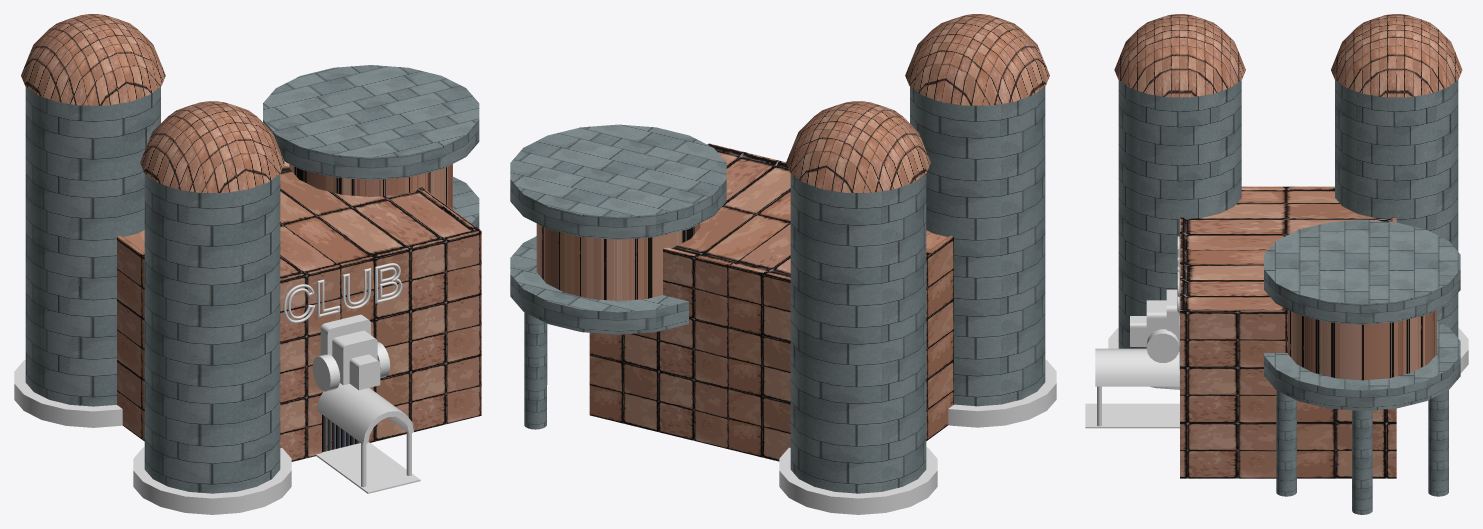
The model's file is Nightclub Building TEXTURED.FBX.
The picture shows the model from 3 angles, left to right: view 1: azimuth 30°, elevation 25°; view 2: azimuth 150°, elevation 25°; view 3: azimuth 270°, elevation 25°; orthographic projection. The views are drawn at different scales.
Visible parts, largest first — view 1: Box001, Cylinder002, Cylinder003, Cylinder007, Sphere002, Sphere001, Cylinder008, Tube001, Cylinder001, Cylinder009, Box005, Text001 (+6 smaller); view 2: Box001, Cylinder003, Cylinder002, Cylinder007, Sphere001, Sphere002, Cylinder001, Cylinder004, Cylinder009, Cylinder008, Cylinder010; view 3: Box001, Cylinder002, Cylinder007, Cylinder003, Sphere001, Sphere002, Cylinder001, Cylinder004, Tube001, Box005, Cylinder012, Cylinder010 (+5 smaller).
Boxes of the visible parts, x1,y1,x2,y2 form: Box001: [117, 162, 481, 461]; Cylinder002: [144, 174, 280, 493]; Cylinder003: [25, 87, 160, 406]; Cylinder007: [263, 65, 479, 180]; Sphere002: [21, 14, 165, 105]; Sphere001: [140, 101, 284, 192]; Cylinder008: [133, 447, 291, 514]; Tube001: [317, 383, 413, 444]; Cylinder001: [289, 164, 452, 209]; Cylinder009: [14, 360, 122, 427]; Box005: [316, 442, 420, 493]; Text001: [283, 263, 402, 323]; Box001: [589, 143, 953, 461]; Cylinder003: [790, 174, 926, 493]; Cylinder002: [910, 86, 1045, 406]; Cylinder007: [510, 124, 726, 239]; Sphere001: [905, 14, 1049, 105]; Sphere002: [786, 101, 930, 192]; Cylinder001: [536, 223, 700, 300]; Cylinder004: [510, 236, 688, 334]; Cylinder009: [779, 447, 937, 514]; Cylinder008: [948, 359, 1056, 427]; Cylinder010: [524, 312, 546, 429]; Box001: [1180, 186, 1396, 478]; Cylinder002: [1118, 80, 1241, 370]; Cylinder007: [1264, 220, 1460, 324]; Cylinder003: [1335, 80, 1458, 337]; Sphere001: [1114, 14, 1245, 97]; Sphere002: [1331, 14, 1462, 97]; Cylinder001: [1288, 310, 1436, 380]; Cylinder004: [1264, 321, 1460, 410]; Tube001: [1095, 348, 1179, 386]; Box005: [1085, 403, 1179, 428]; Cylinder012: [1352, 410, 1372, 514]; Cylinder010: [1428, 390, 1448, 496].
Bounding box in the file's own units: 97.54 × 82.21 × 84.09.
Materials: 3 (3 with a texture image).
